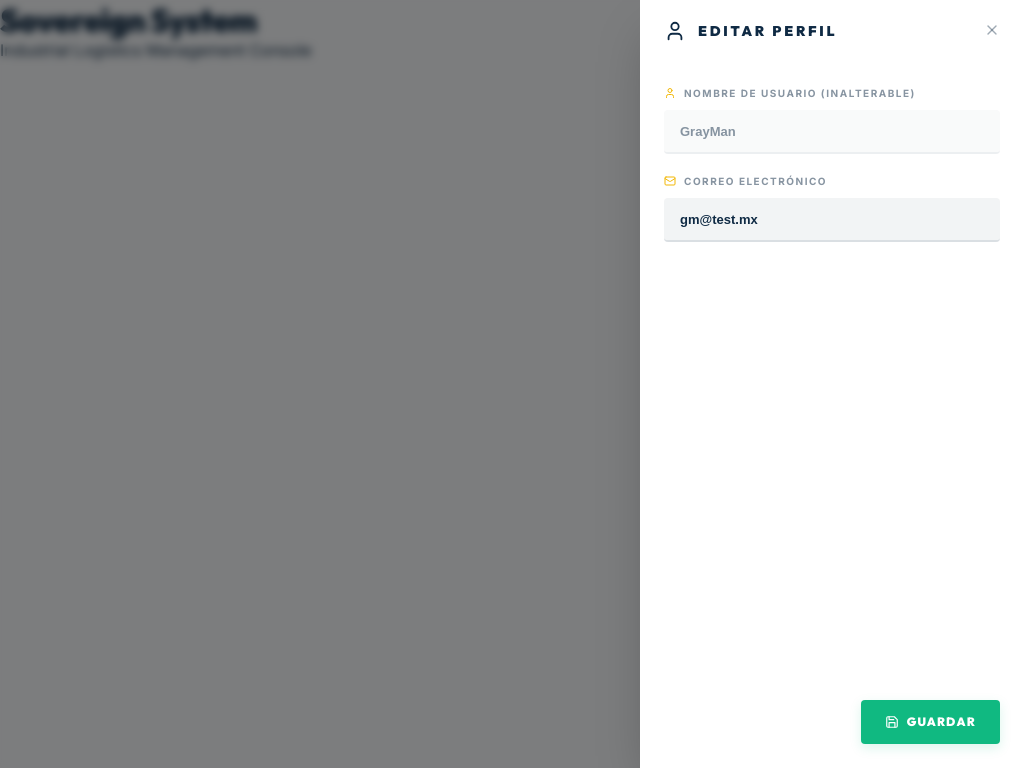
Test: ProfileEditSlideOver — contrato PATCH /auth/users/:id (FC 076 R6) › muestra error sin romper cuando el PATCH falla
Step 1. Click the button with test id "profile-edit-save" → (930, 722), box 861,700 -> 1000,744
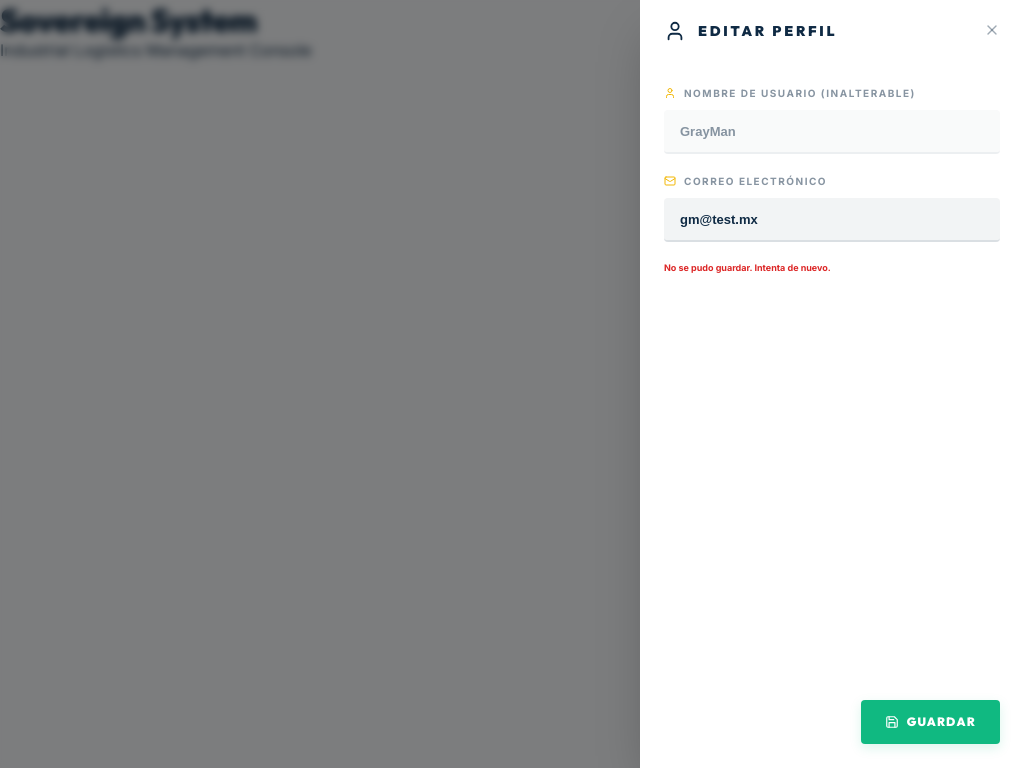
Result: the text "No se pudo guardar. Intenta de nuevo." is shown at 664,262 -> 831,273
